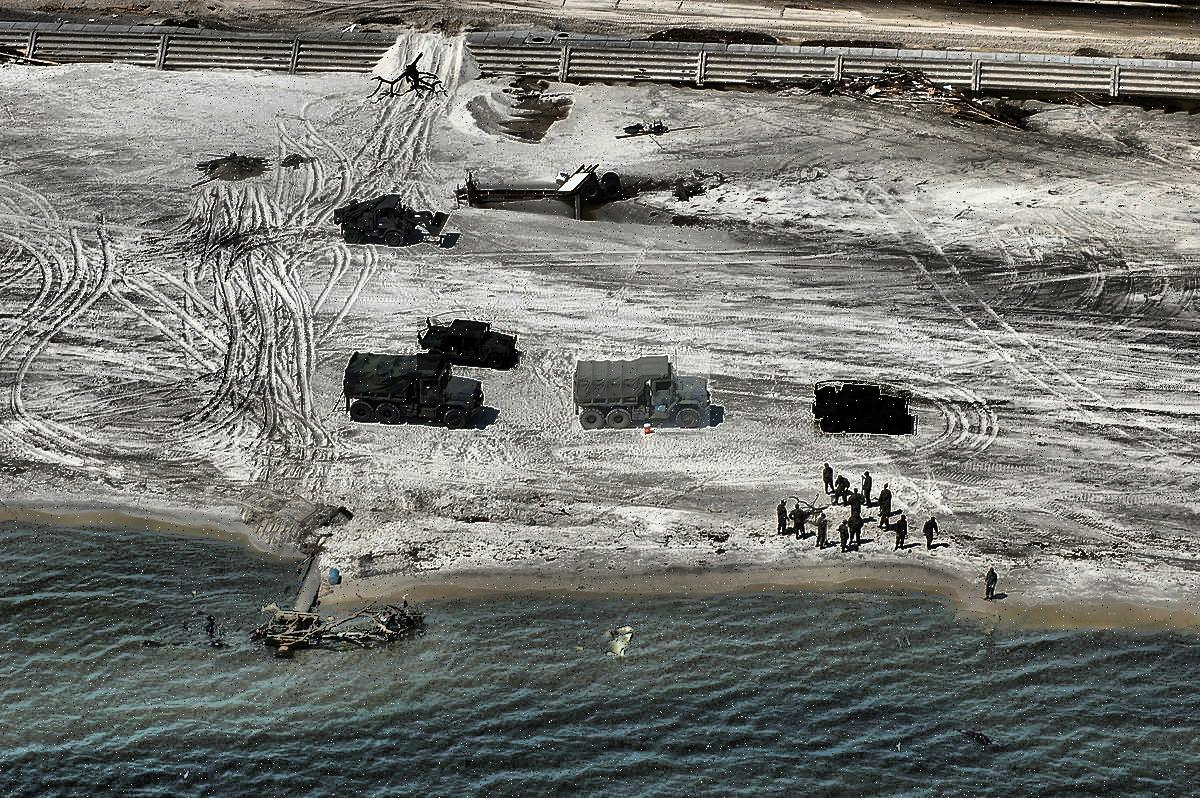military-vehicle: (341, 351, 488, 430), (572, 355, 710, 432), (814, 381, 911, 438), (418, 318, 519, 371)
